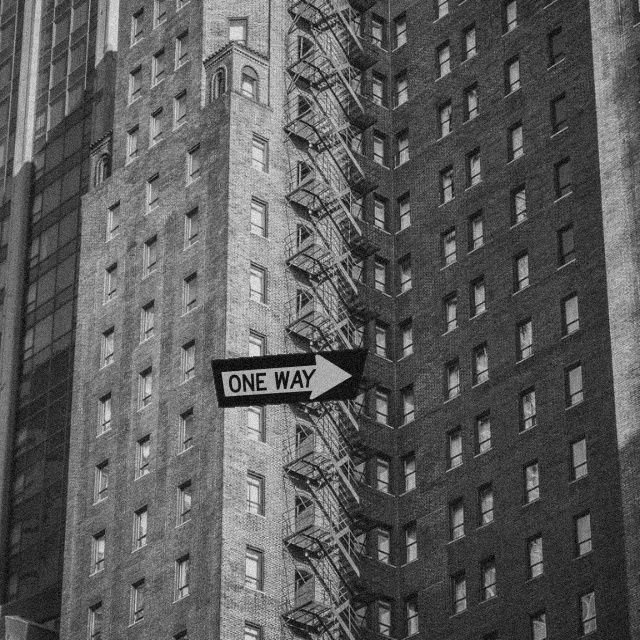ONE_WAY_ right: (210, 347, 369, 408)
